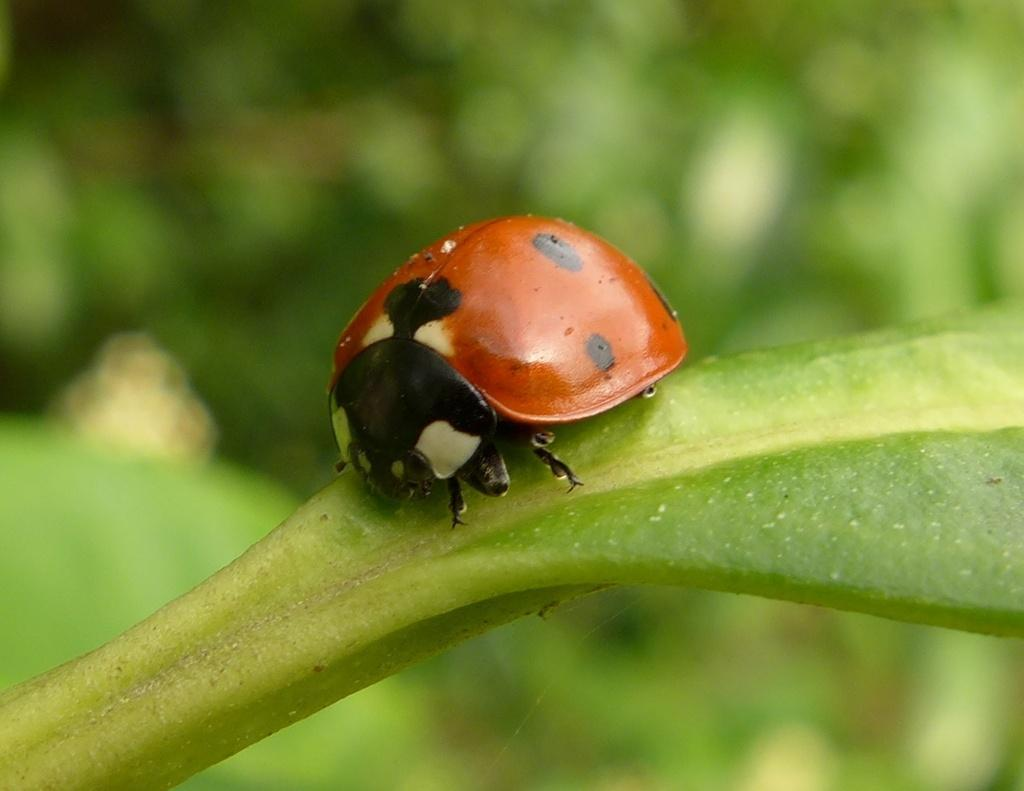ladybug: (327, 211, 691, 533)
